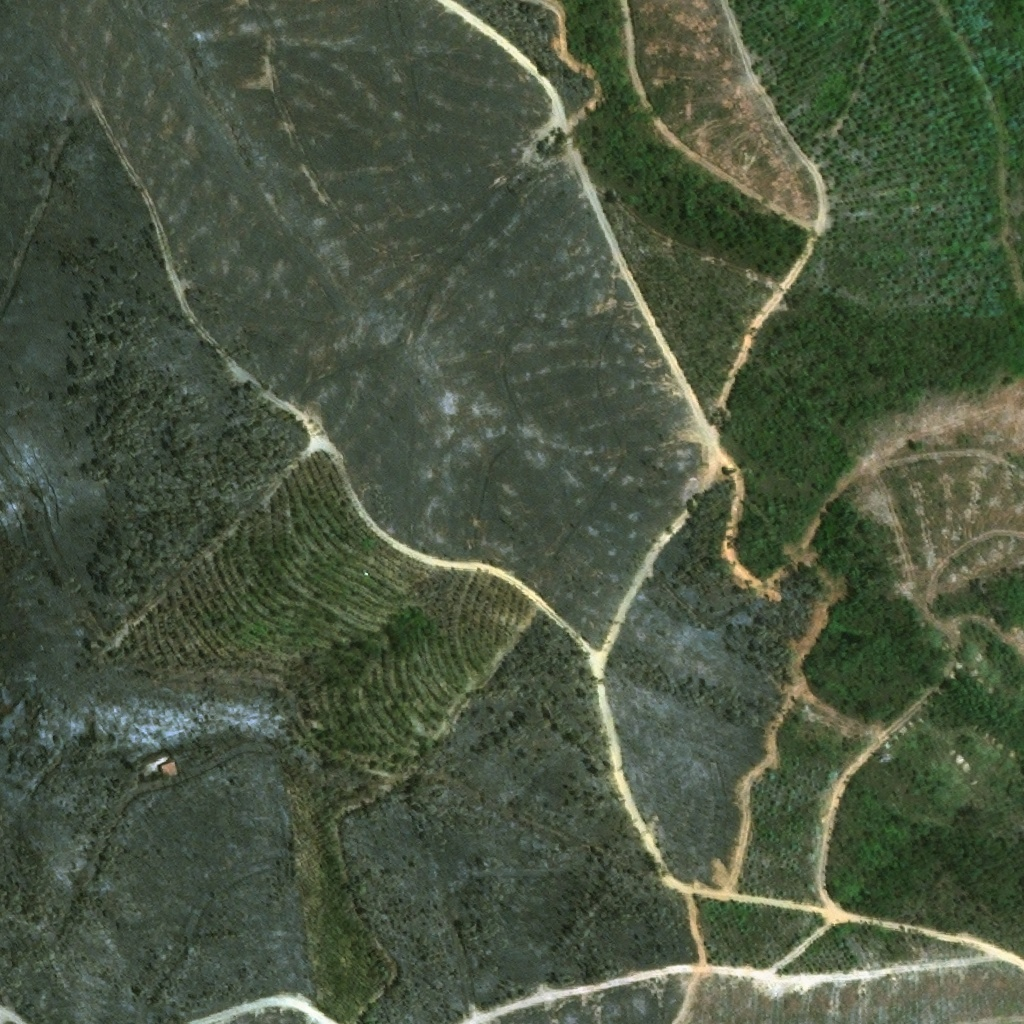1 minor-damage: (157, 762, 177, 781)
